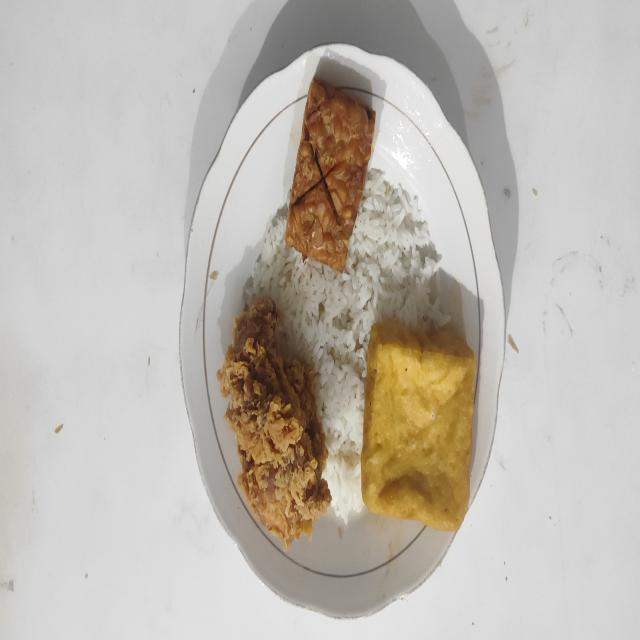nasi_putih: (244, 168, 451, 523)
tahu_goreng: (361, 319, 476, 532)
tempe_goreng: (286, 78, 375, 272)
